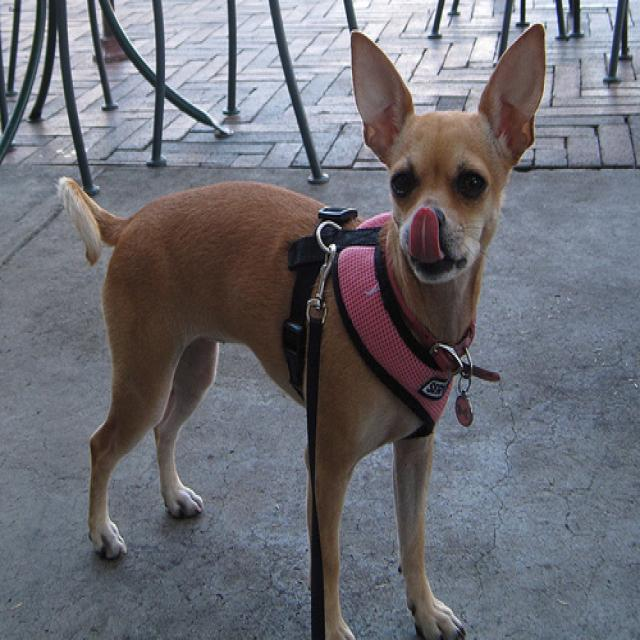dog-chihuahua: (52, 15, 549, 637)
